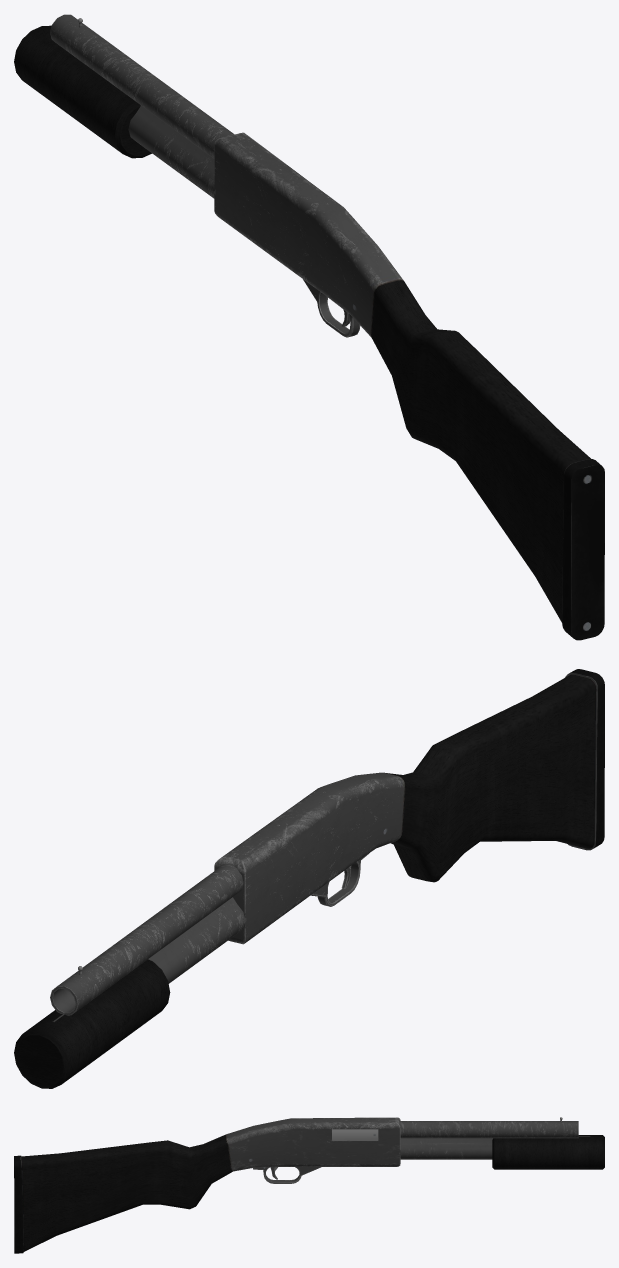
The picture shows the model from 3 angles, top to bottom: view 1: azimuth 30°, elevation 25°; view 2: azimuth 150°, elevation 25°; view 3: azimuth 270°, elevation 25°; orthographic projection. The views are drawn at different scales.
Visible parts, largest first — view 1: Body, Pump; view 2: Body, Pump; view 3: Body, Pump, Bolt.
Part boxes in pixels (x1,y1,x2,y2): Body: (50, 14, 604, 640); Pump: (14, 25, 151, 158); Body: (50, 669, 604, 1021); Pump: (14, 959, 170, 1088); Body: (14, 1117, 590, 1253); Pump: (492, 1135, 604, 1169); Bolt: (332, 1129, 378, 1140).
Size of the model in its own units: 0.0562 by 0.2408 by 0.9618.
Materials: 1 (1 with a texture image).
